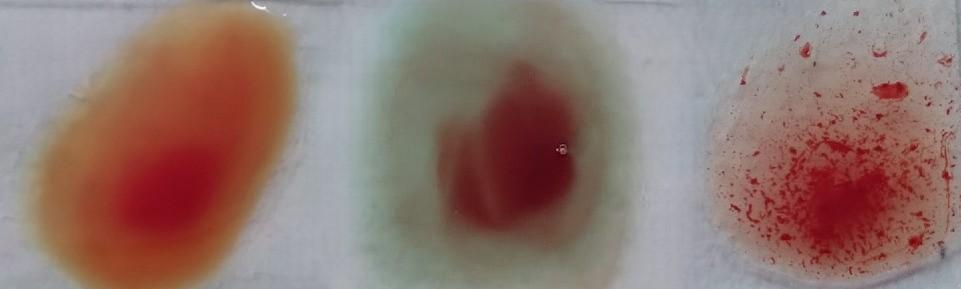D: (714, 16, 953, 289)
